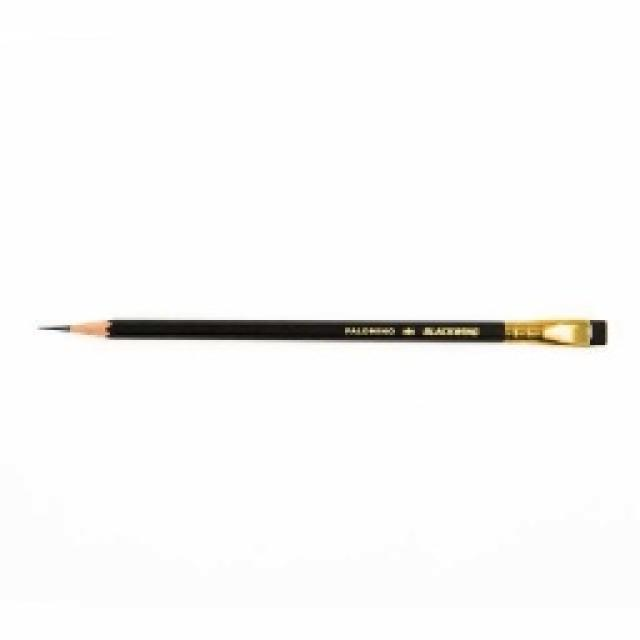pencil: (35, 312, 607, 350)
